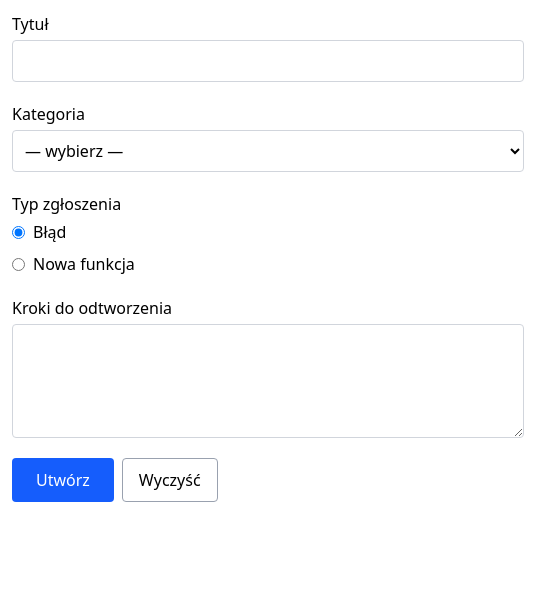
Test case: TicketForm — reset › clears the form after a successful submit
Type "Przycisk nie działa" into the field labelled "Tytuł". click: (268, 61)
box: 12,40 -> 524,82
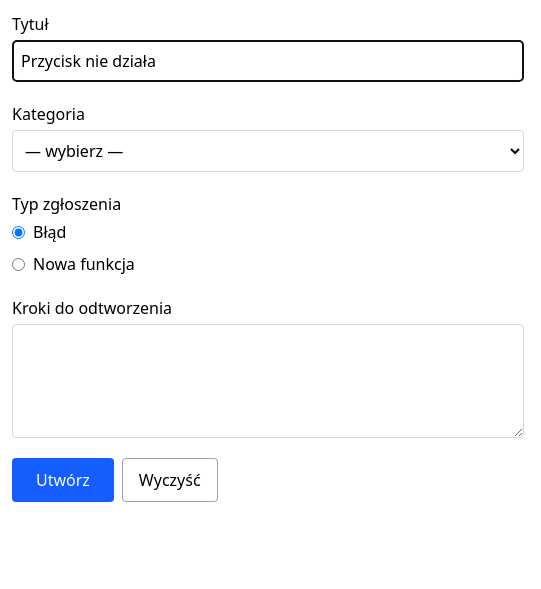
Select "Interfejs" in the dropdown labelled "Kategoria". click: (268, 151)
box: 12,130 -> 524,172
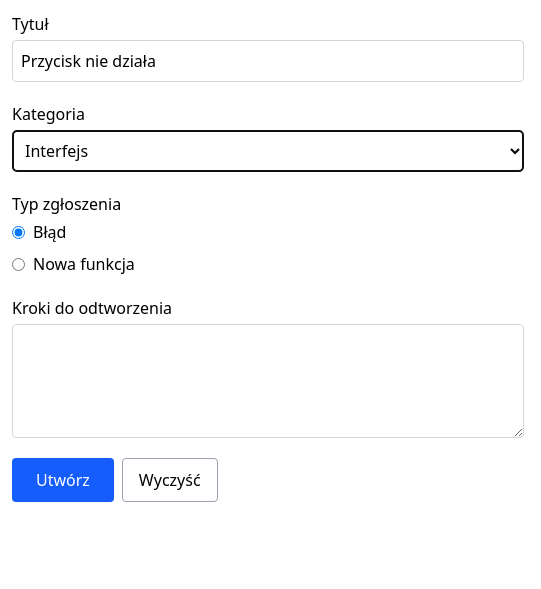
Type "Kliknij zapisz i nic się nie dzieje" into the text box labelled "Kroki do odtworzenia". click: (268, 381)
box: 12,324 -> 524,438
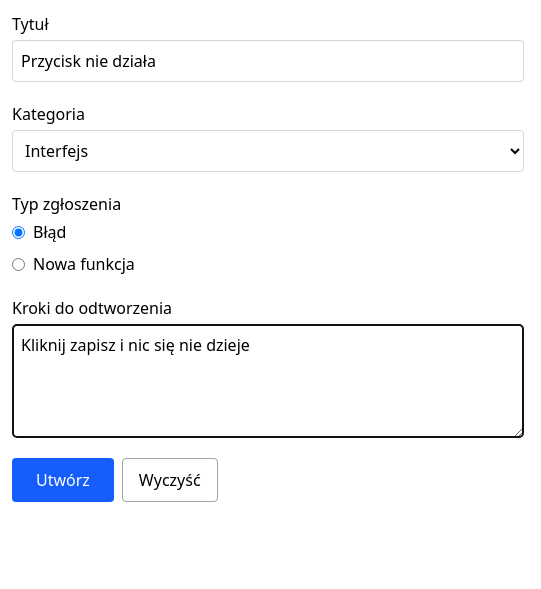
Click the button "Utwórz". click: (63, 480)
box: 12,458 -> 114,502
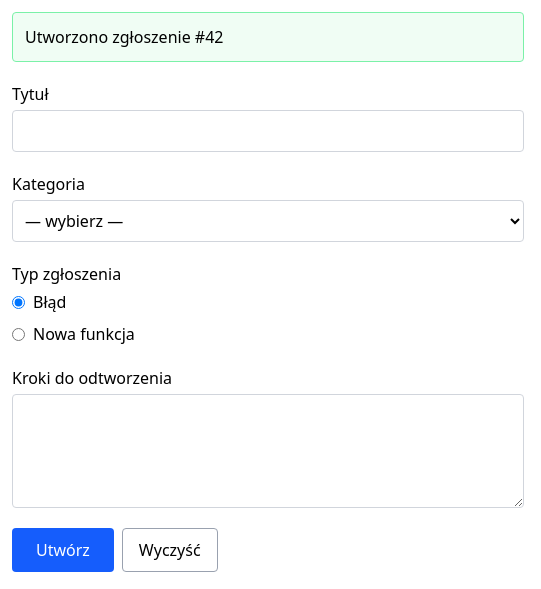
Check: the text "Utworzono zgłoszenie #42" is shown, box 12,12 -> 524,62
Check: the field labelled "Tytuł" is empty, box 12,110 -> 524,152
Check: the text box labelled "Kroki do odtworzenia" is empty, box 12,394 -> 524,508
